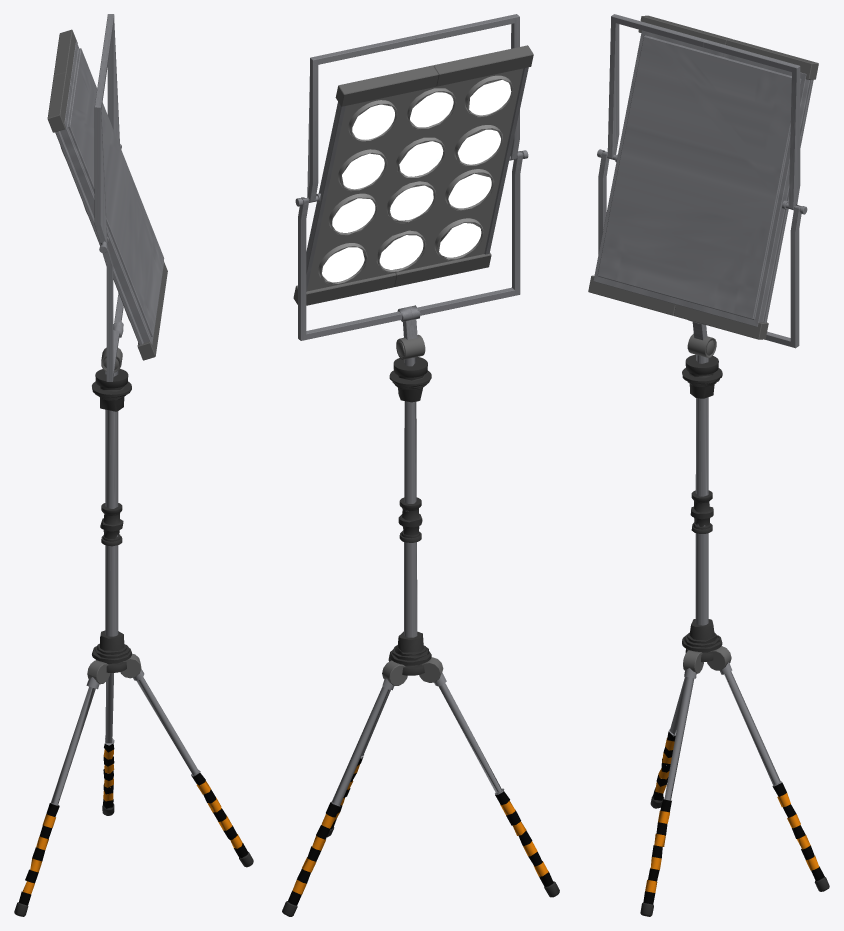
The model's file is led_lights.glb.
3 renders of one model, left to right at view 1: azimuth 30°, elevation 25°; view 2: azimuth 150°, elevation 25°; view 3: azimuth 270°, elevation 25°, orthographic. The views are drawn at different scales.
Parts seen in each view (by area): view 1: Cube.003_1, Body_2, Cube.002_0; view 2: Cube.003_1, Body_2, Cube.002_0; view 3: Cube.003_1, Body_2, Cube.002_0.
Boxes of the visible parts, x1=… form: Cube.003_1: x1=47, y1=29, x2=167, y2=360; Body_2: x1=14, y1=347, x2=253, y2=916; Cube.002_0: x1=94, y1=14, x2=123, y2=381; Cube.003_1: x1=293, y1=45, x2=533, y2=305; Body_2: x1=282, y1=334, x2=559, y2=916; Cube.002_0: x1=295, y1=14, x2=528, y2=340; Cube.003_1: x1=588, y1=15, x2=818, y2=339; Body_2: x1=640, y1=334, x2=829, y2=916; Cube.002_0: x1=597, y1=14, x2=807, y2=348.
Bounding box in the file's own units: 0.4533 × 1.51 × 0.4031.
8 materials, 1 textured.
